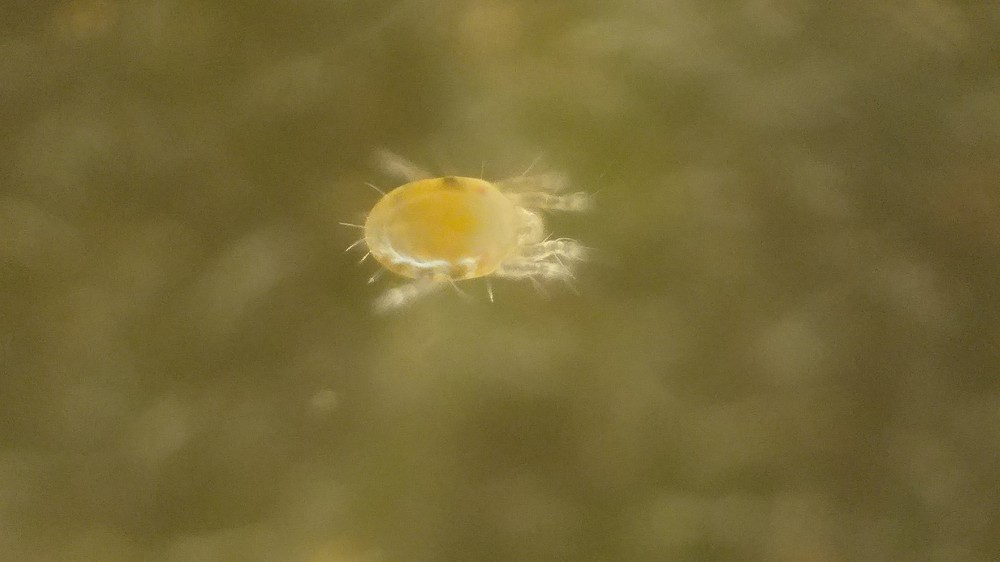Aracnido Rojo: (330, 131, 643, 341)
